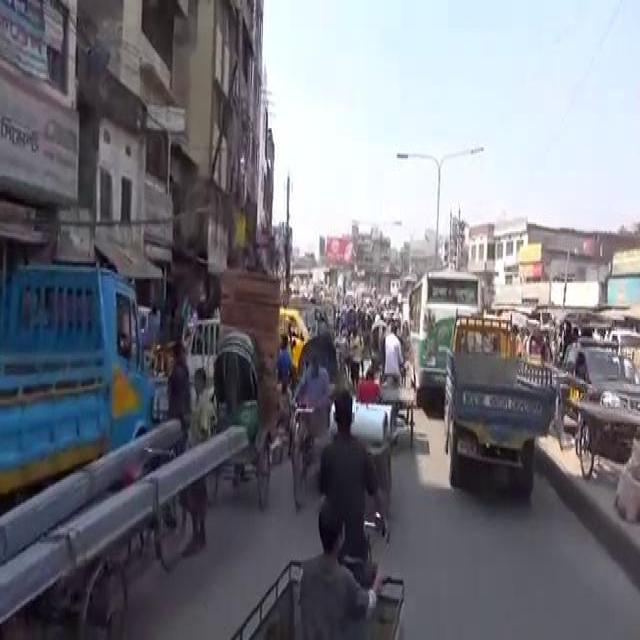vehicle: (2, 255, 153, 477), (443, 304, 560, 498), (534, 304, 639, 455), (202, 330, 274, 511), (409, 265, 486, 409), (287, 326, 340, 512), (360, 368, 421, 445), (276, 304, 332, 374), (368, 314, 388, 367), (345, 305, 356, 330)
